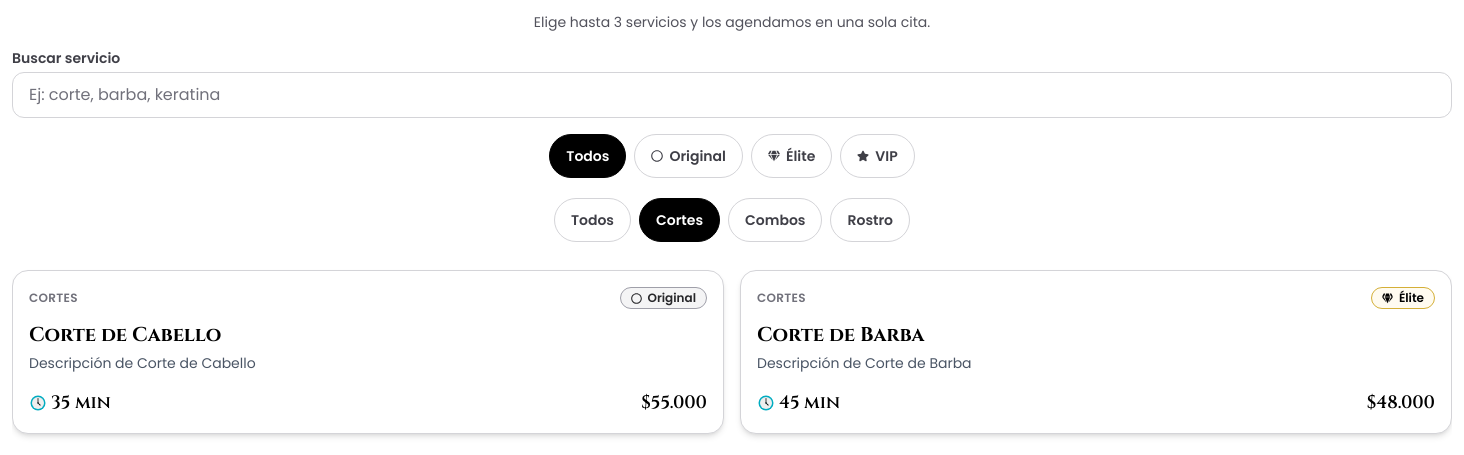
it: PasoServicio › muestra los chips de categoría con aria-pressed y filtra al elegir una
Expected: the element named "Categoría" is shown, [554,198,910,242]
Expected: the button "Corte de Barba" is shown, [740,270,1452,434]
Click the button "Rostro" at (870, 220), box [830,198,910,242]
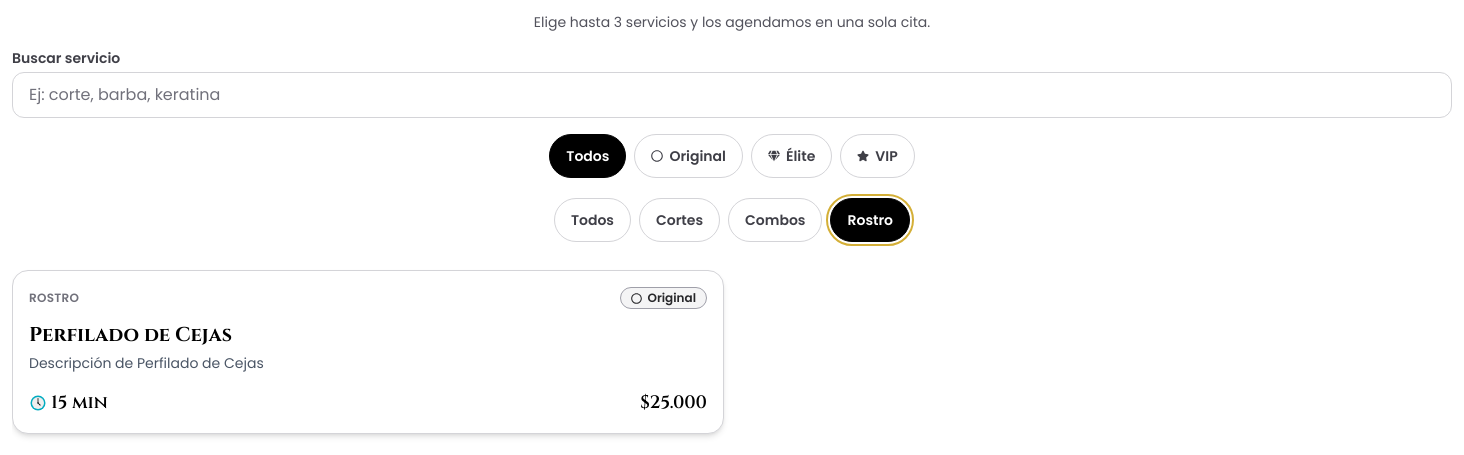
Result: the button "Perfilado de Cejas" is shown at [12,270,724,434]
Result: the button "Corte de Barba" is gone
